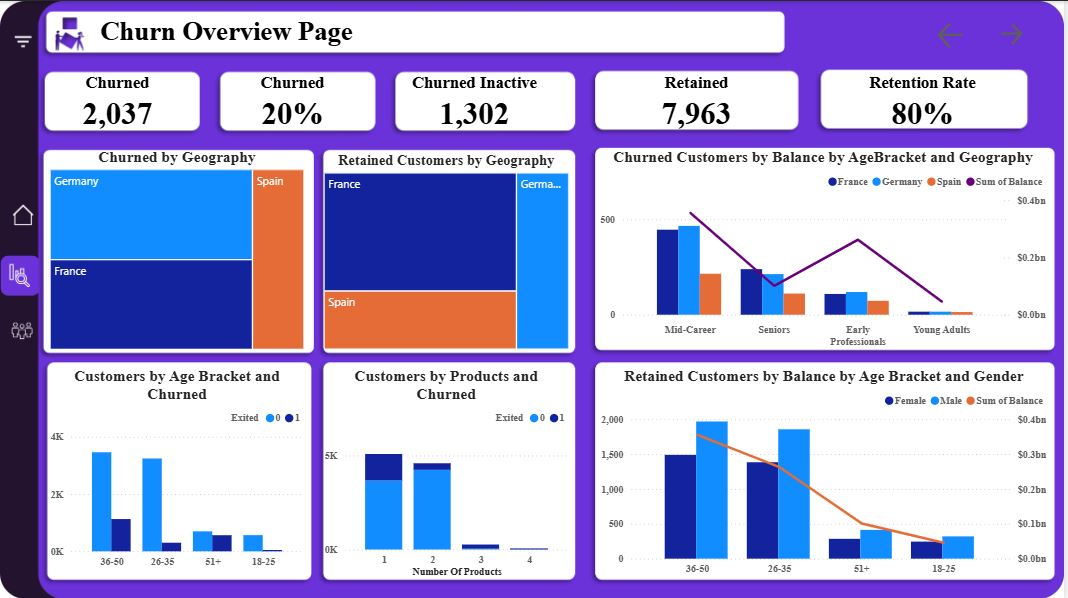

Layout of this report page (visuals, bound fields, positions):
{"tool":"powerbi","page":{"name":"Churn Overview","canvas":[1280,720],"ordinal":2},"visuals":[{"type":"lineClusteredColumnComboChart","title":"Churned Customers by Balance by AgeBracket and Geography","fields":{"Category":["Churn_Modelling.AgeBracket"],"Y":["KPIs.Churned Customers"],"Series":["Churn_Modelling.Geography"],"Y2":["Sum(Churn_Modelling.Balance)"]},"box":[718.2,177,547.1,247.7],"z":0},{"type":"textbox","box":[115,13.3,666.5,47.2],"z":1000},{"type":"card","title":"Churned","fields":{"Values":["KPIs.Churned Customers"]},"box":[56,87,169.6,72.3],"z":2000},{"type":"card","title":"Churned","fields":{"Values":["KPIs.Churn Rate"]},"box":[266.9,87,169.6,72.3],"z":3000},{"type":"card","title":"Churned Inactive","fields":{"Values":["KPIs.ChurnedInactives"]},"box":[486.6,87,169.6,72.3],"z":4000},{"type":"card","title":"Retained","fields":{"Values":["KPIs.Retained Customers"]},"box":[753.5,87,169.6,72.3],"z":5000},{"type":"card","title":"Retention Rate","fields":{"Values":["KPIs.Retention Rate"]},"box":[1026.4,87,169.6,72.3],"z":6000},{"type":"lineClusteredColumnComboChart","title":"Retained Customers by Balance by Age Bracket and Gender","fields":{"Category":["Churn_Modelling.Age Bracket"],"Y":["KPIs.Retained Customers"],"Series":["Churn_Modelling.Gender"],"Y2":["Sum(Churn_Modelling.Balance)"]},"box":[718.3,440.6,546.6,258.8],"z":7000},{"type":"treemap","fields":{"Group":["Churn_Modelling.Geography"],"Values":["KPIs.Churned"]},"box":[55.5,176.7,315.6,247.4],"z":8000},{"type":"treemap","fields":{"Group":["Churn_Modelling.Geography"],"Values":["KPIs.Retained Customers"]},"box":[385,183,304.2,241.1],"z":9000},{"type":"clusteredColumnChart","title":"Customers by Age Bracket and Churned","fields":{"Category":["Churn_Modelling.Age Bracket"],"Y":["KPIs.Customer Count"],"Series":["Churn_Modelling.Exited"]},"box":[55.5,440.6,315.6,249.9],"z":10000},{"type":"columnChart","title":"Customers by Products and Churned","fields":{"Category":["Churn_Modelling.NumOfProducts"],"Y":["KPIs.Customer Count"],"Series":["Churn_Modelling.Exited"]},"box":[385,440.6,304.2,258.8],"z":11000},{"type":"actionButton","box":[0,238.2,54.9,49.5],"z":11001},{"type":"actionButton","box":[1193.8,16.1,62.9,49.5],"z":11002},{"type":"actionButton","box":[1124.2,21.4,58.9,40.1],"z":11003}]}

Visuals, with their boxes on the page's 1280x720 design canvas (x1, y1, x2, y2). These are canvas units, not pixel positions in the 1068x598 screenshot, which may show the page scaled, cropped or inside an application window:
"Churned Customers by Balance by AgeBracket and Geography" lineClusteredColumnComboChart: (718,177,1265,425)
textbox: (115,13,782,60)
"Churned" card: (56,87,226,159)
"Churned" card: (267,87,436,159)
"Churned Inactive" card: (487,87,656,159)
"Retained" card: (754,87,923,159)
"Retention Rate" card: (1026,87,1196,159)
"Retained Customers by Balance by Age Bracket and Gender" lineClusteredColumnComboChart: (718,441,1265,699)
treemap - Churn_Modelling.Geography x KPIs.Churned: (56,177,371,424)
treemap - Churn_Modelling.Geography x KPIs.Retained Customers: (385,183,689,424)
"Customers by Age Bracket and Churned" clusteredColumnChart: (56,441,371,690)
"Customers by Products and Churned" columnChart: (385,441,689,699)
actionButton: (0,238,55,288)
actionButton: (1194,16,1257,66)
actionButton: (1124,21,1183,62)
